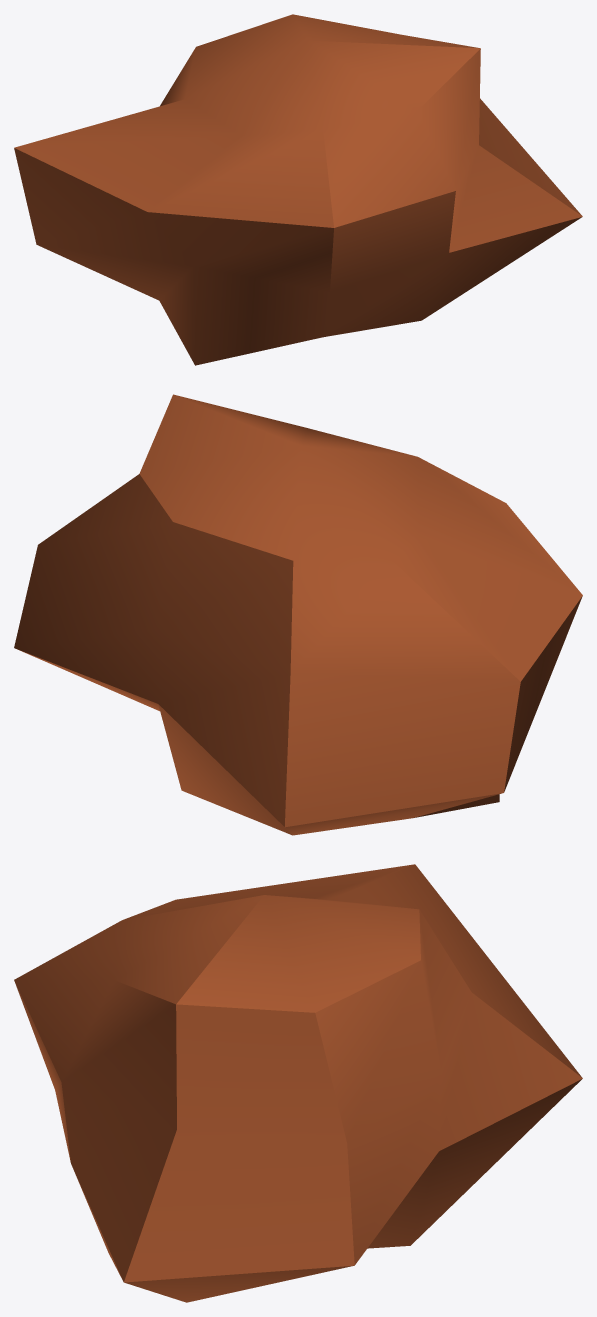
Rendered from rock_small_1.glb.
The picture shows the model from 3 angles, top to bottom: view 1: azimuth 30°, elevation 25°; view 2: azimuth 150°, elevation 25°; view 3: azimuth 270°, elevation 25°; orthographic projection. The views are drawn at different scales.
Parts seen in each view (by area): view 1: rock_small_1; view 2: rock_small_1; view 3: rock_small_1.
Boxes of the visible parts, left/top/right/bottom form: rock_small_1: left=14, top=14, right=582, bottom=365; rock_small_1: left=14, top=394, right=582, bottom=835; rock_small_1: left=14, top=864, right=582, bottom=1302.
Bounding box in the file's own units: 0.3579 × 0.205 × 0.2966.
